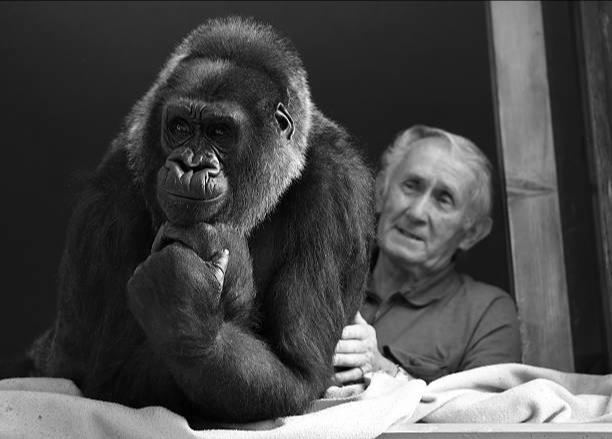gorille_Autres: (55, 4, 372, 414)
